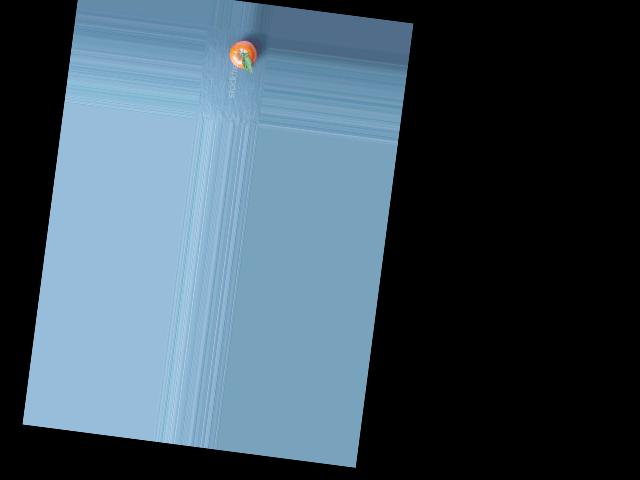tomato: (228, 39, 258, 70)
